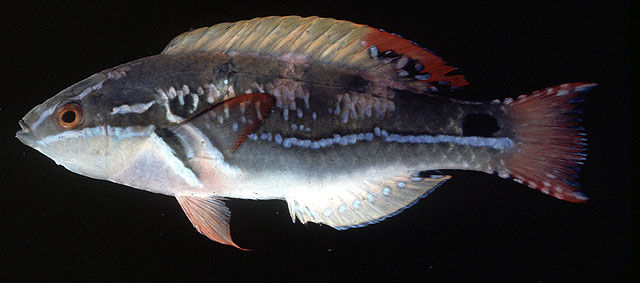fish: (17, 16, 599, 250)
